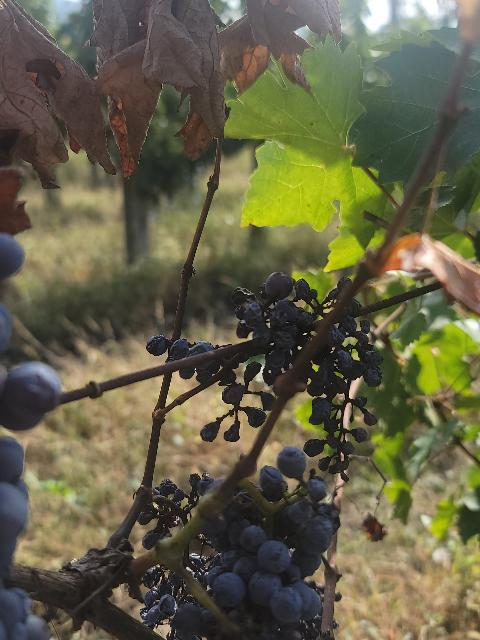grapes: (202, 490, 339, 640), (145, 595, 229, 640)
